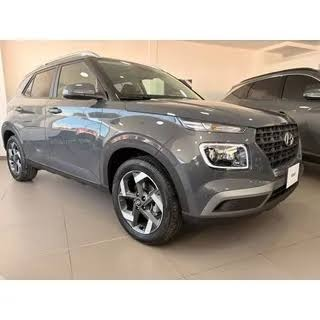car: (1, 50, 307, 244), (220, 68, 320, 174)
